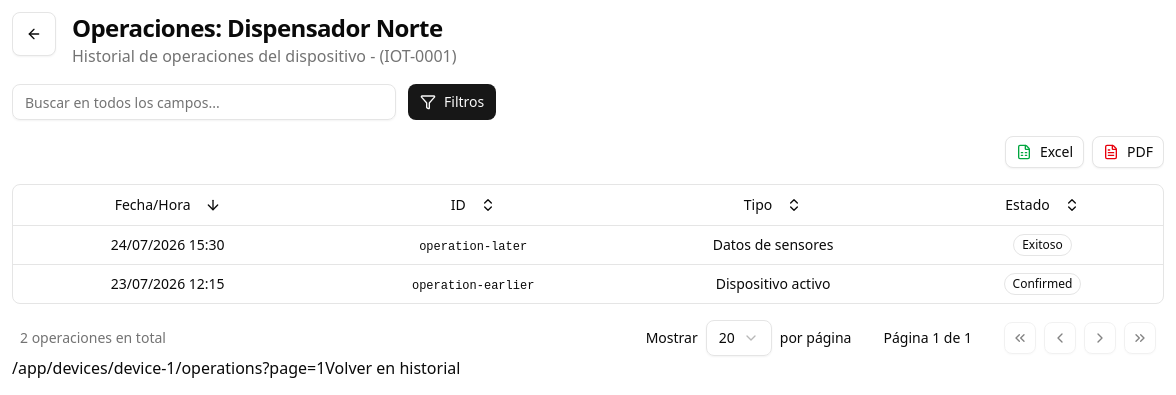
DeviceOperationsPage responsive presentation › drives server sorting from sortable table headers
Click the button "Estado": (1043, 205) [995,189,1090,221]
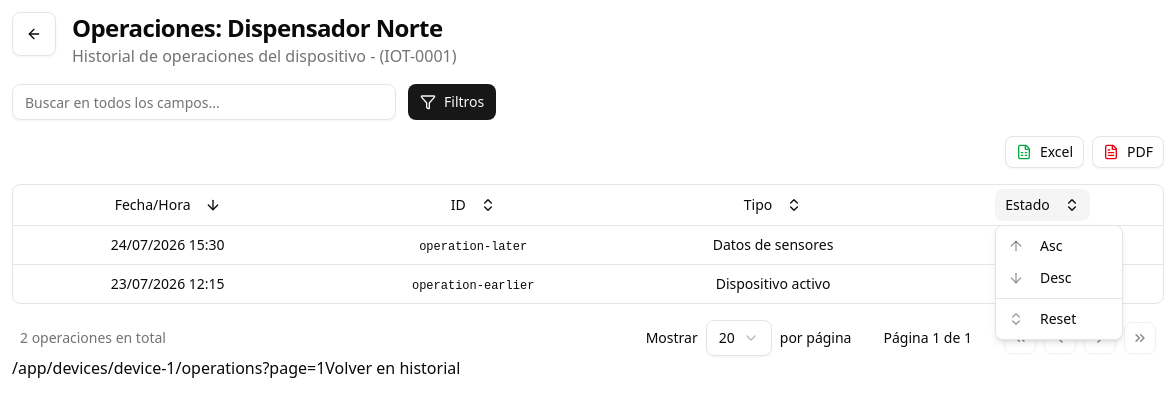
Click the menu item "Asc": (1016, 246) [1008,236,1062,255]
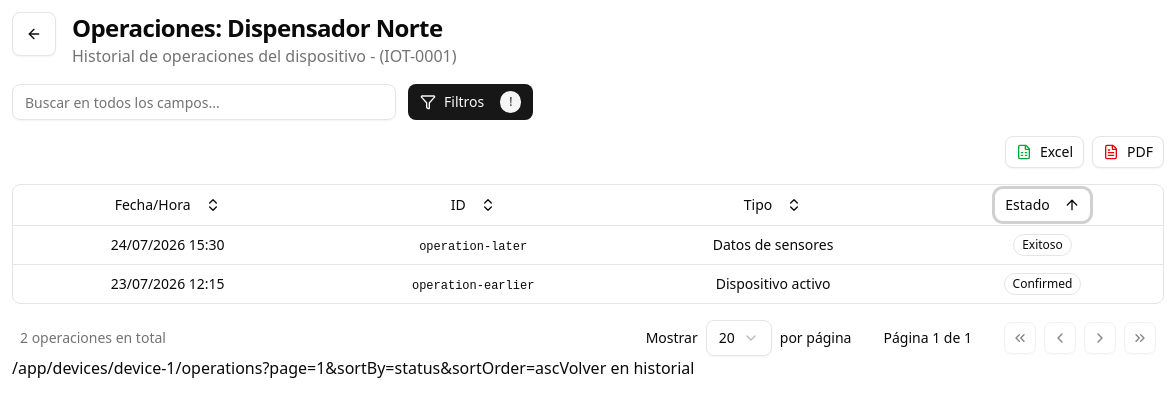
Expected: the text named "Ubicación actual" shows "page=1", [262,356,559,378]
Result: the text named "Ubicación actual" shows "sortBy=status" at [262,356,559,378]
Result: the text named "Ubicación actual" shows "sortOrder=asc" at [262,356,559,378]
